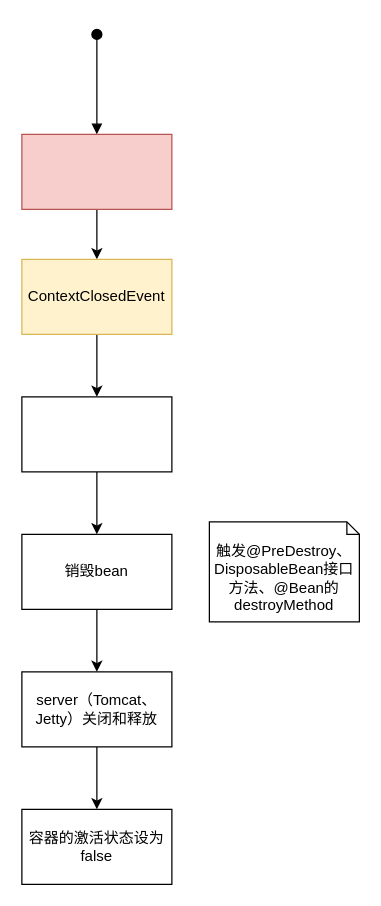
Some shapes in this 381 by 906 pixel diagram are drawn without their labels. Each missing label, with the box of its shape:
shutdown hook: (21, 133, 172, 209)
触发lifecycle bean的关闭周期: (21, 396, 172, 472)
